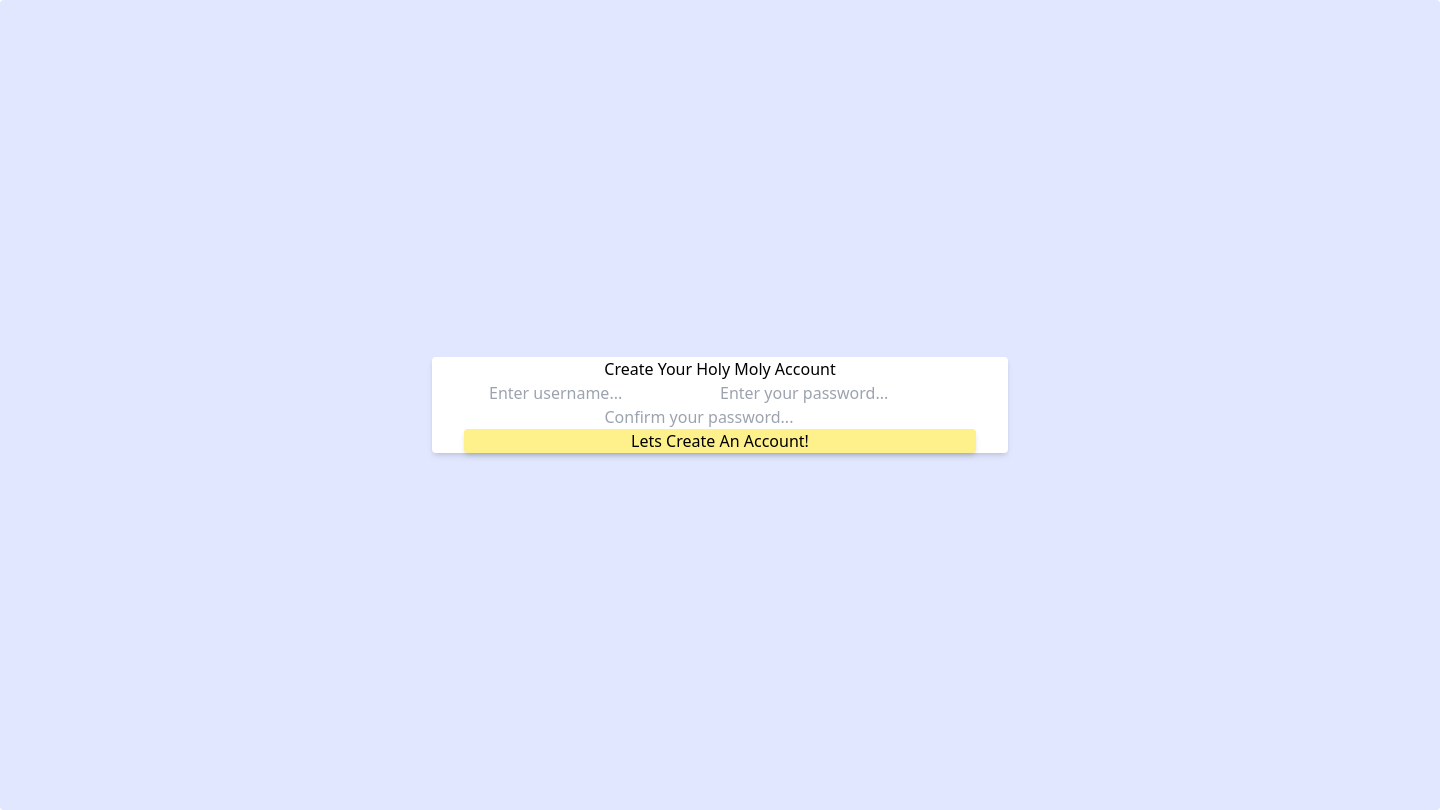
Test: Register component › show error if password is weak
This screenshot has width=1440, height=810.
Type "DeAsia" into the field with placeholder "Enter username..." at (604, 393), box [489,381,720,405]
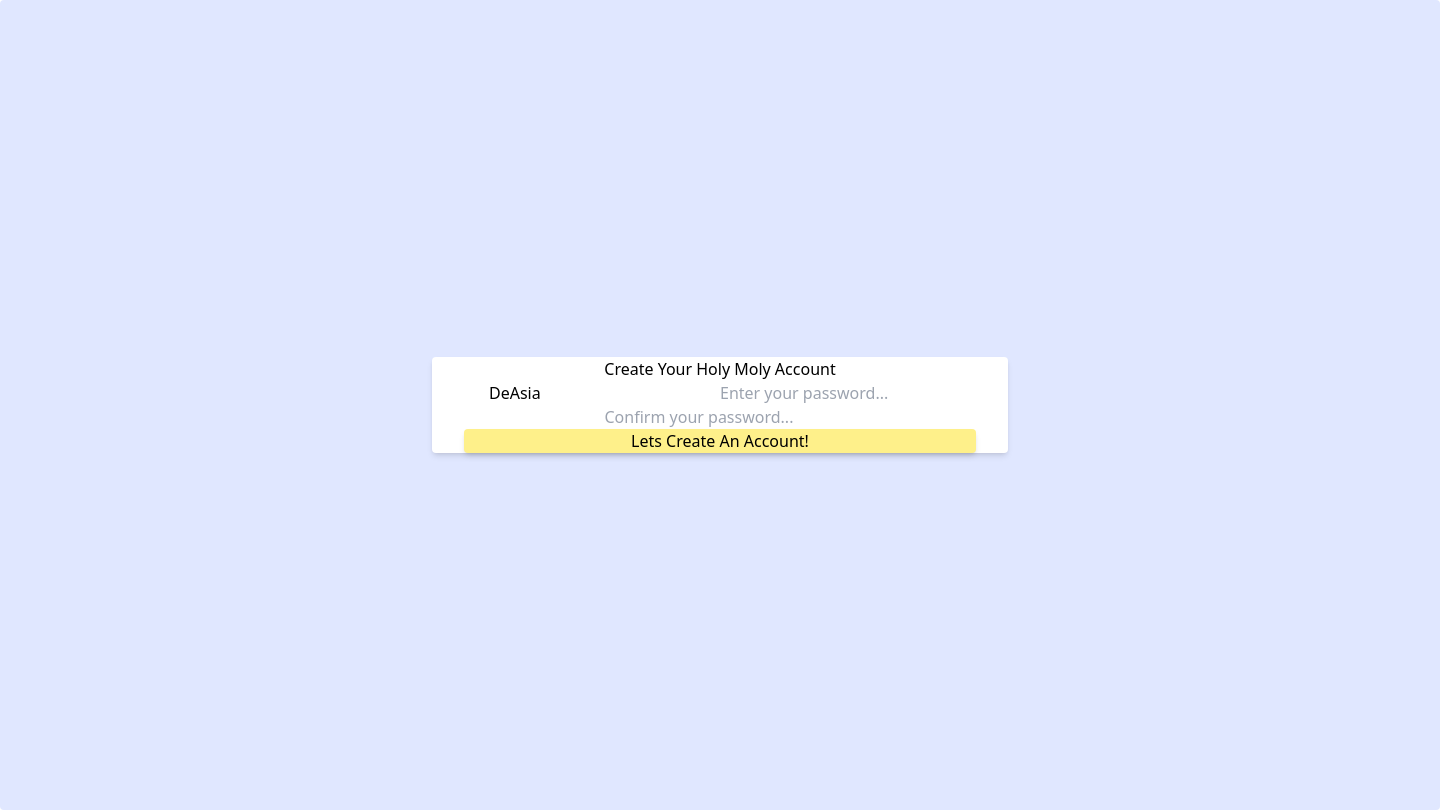
Type "12345" into the password field with placeholder "Enter your password..." at (836, 393), box [720,381,951,405]
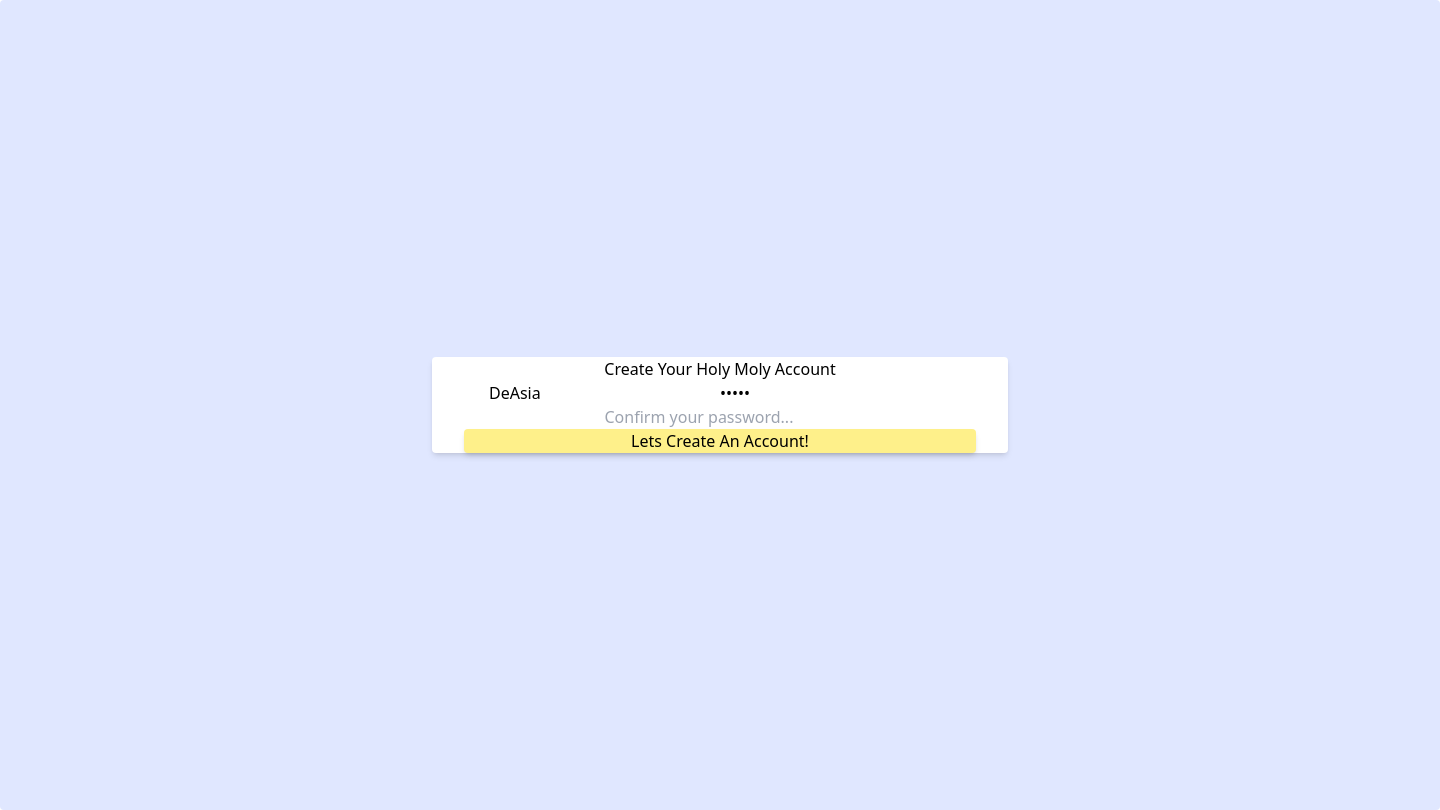
Type "12345" into the password field with placeholder "Confirm your password..." at (720, 417), box [604,405,836,429]
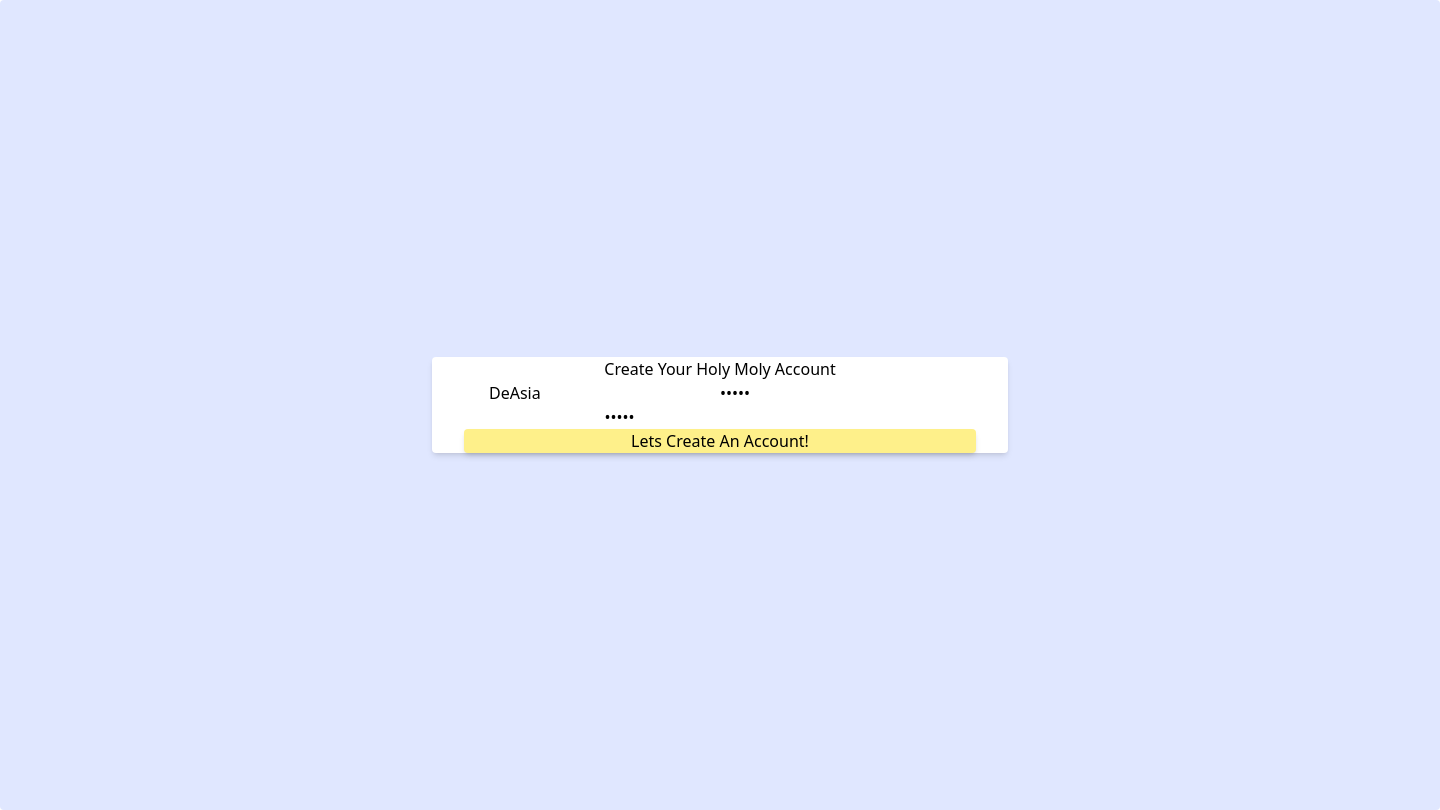
Click the button "Lets Create An Account!" at (720, 441), box [464,429,976,453]
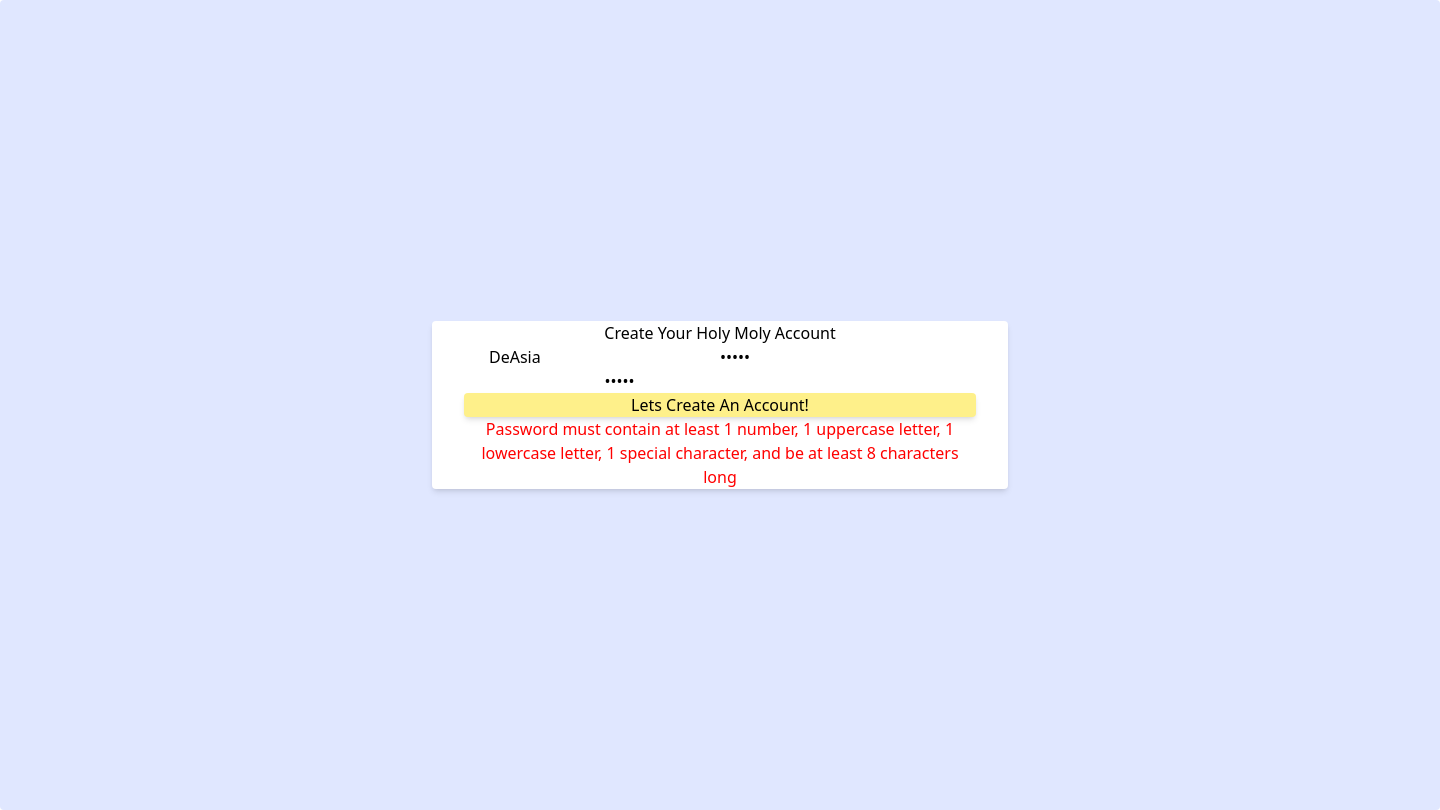
expect the text "Password must contain at least 1 number" is shown: met, box [481,418,959,488]
